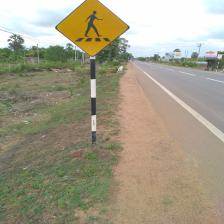yellowboard: (54, 0, 130, 57)
